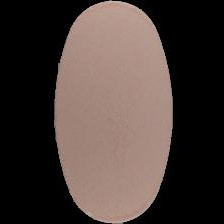54868-6457: (0, 0, 224, 224)
